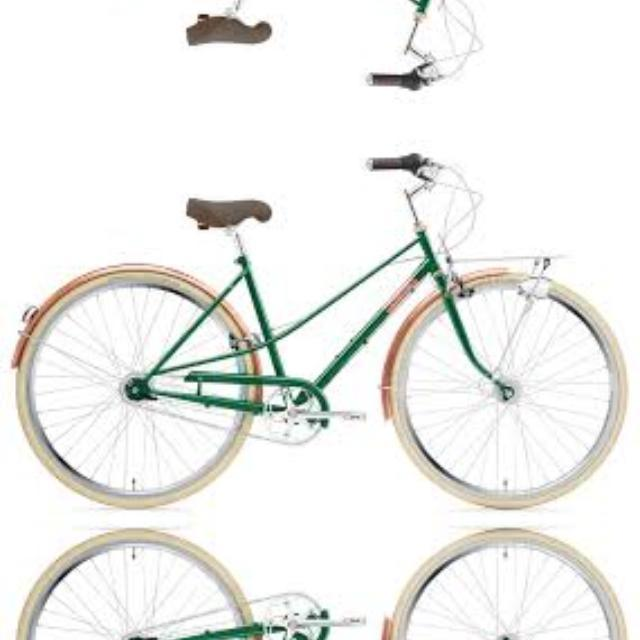obstacle: (11, 150, 634, 512), (10, 525, 633, 640), (10, 0, 633, 92)
